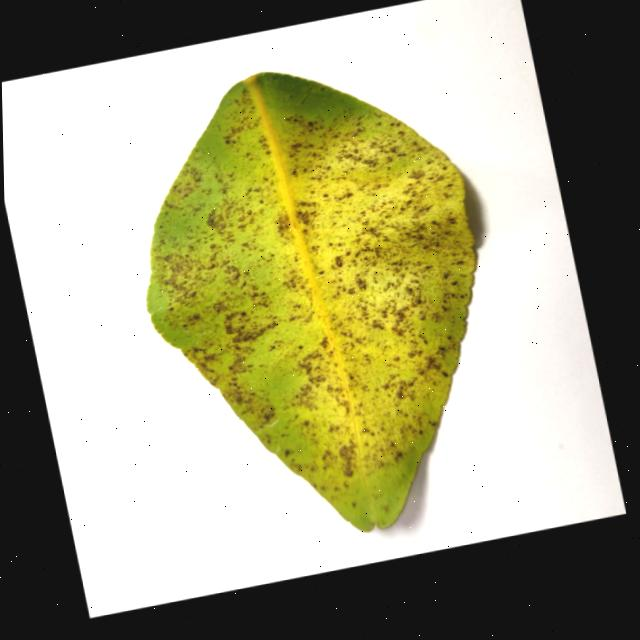melanose: (147, 72, 475, 530)
